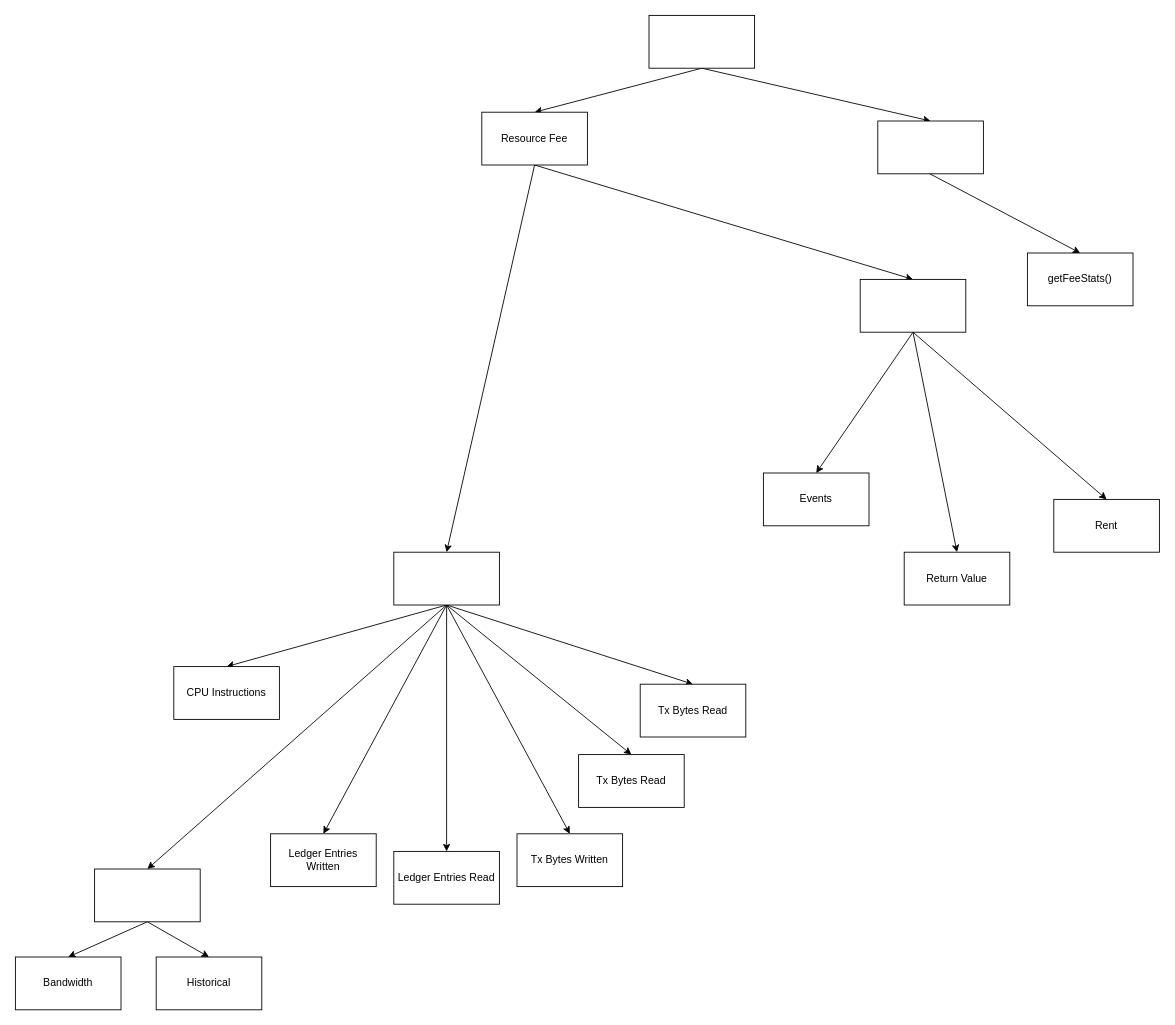
The diagram is 1175 pixels wide and 1025 high, and some of its shapes have lost their labels. Each missing label, with the centre of its shape:
"Fee" belongs at point (701, 41).
"Inclusion Fee" belongs at point (930, 147).
"Non Refundable" belongs at point (446, 578).
"Refundable" belongs at point (912, 305).
"Transaction Size" belongs at point (147, 895).
